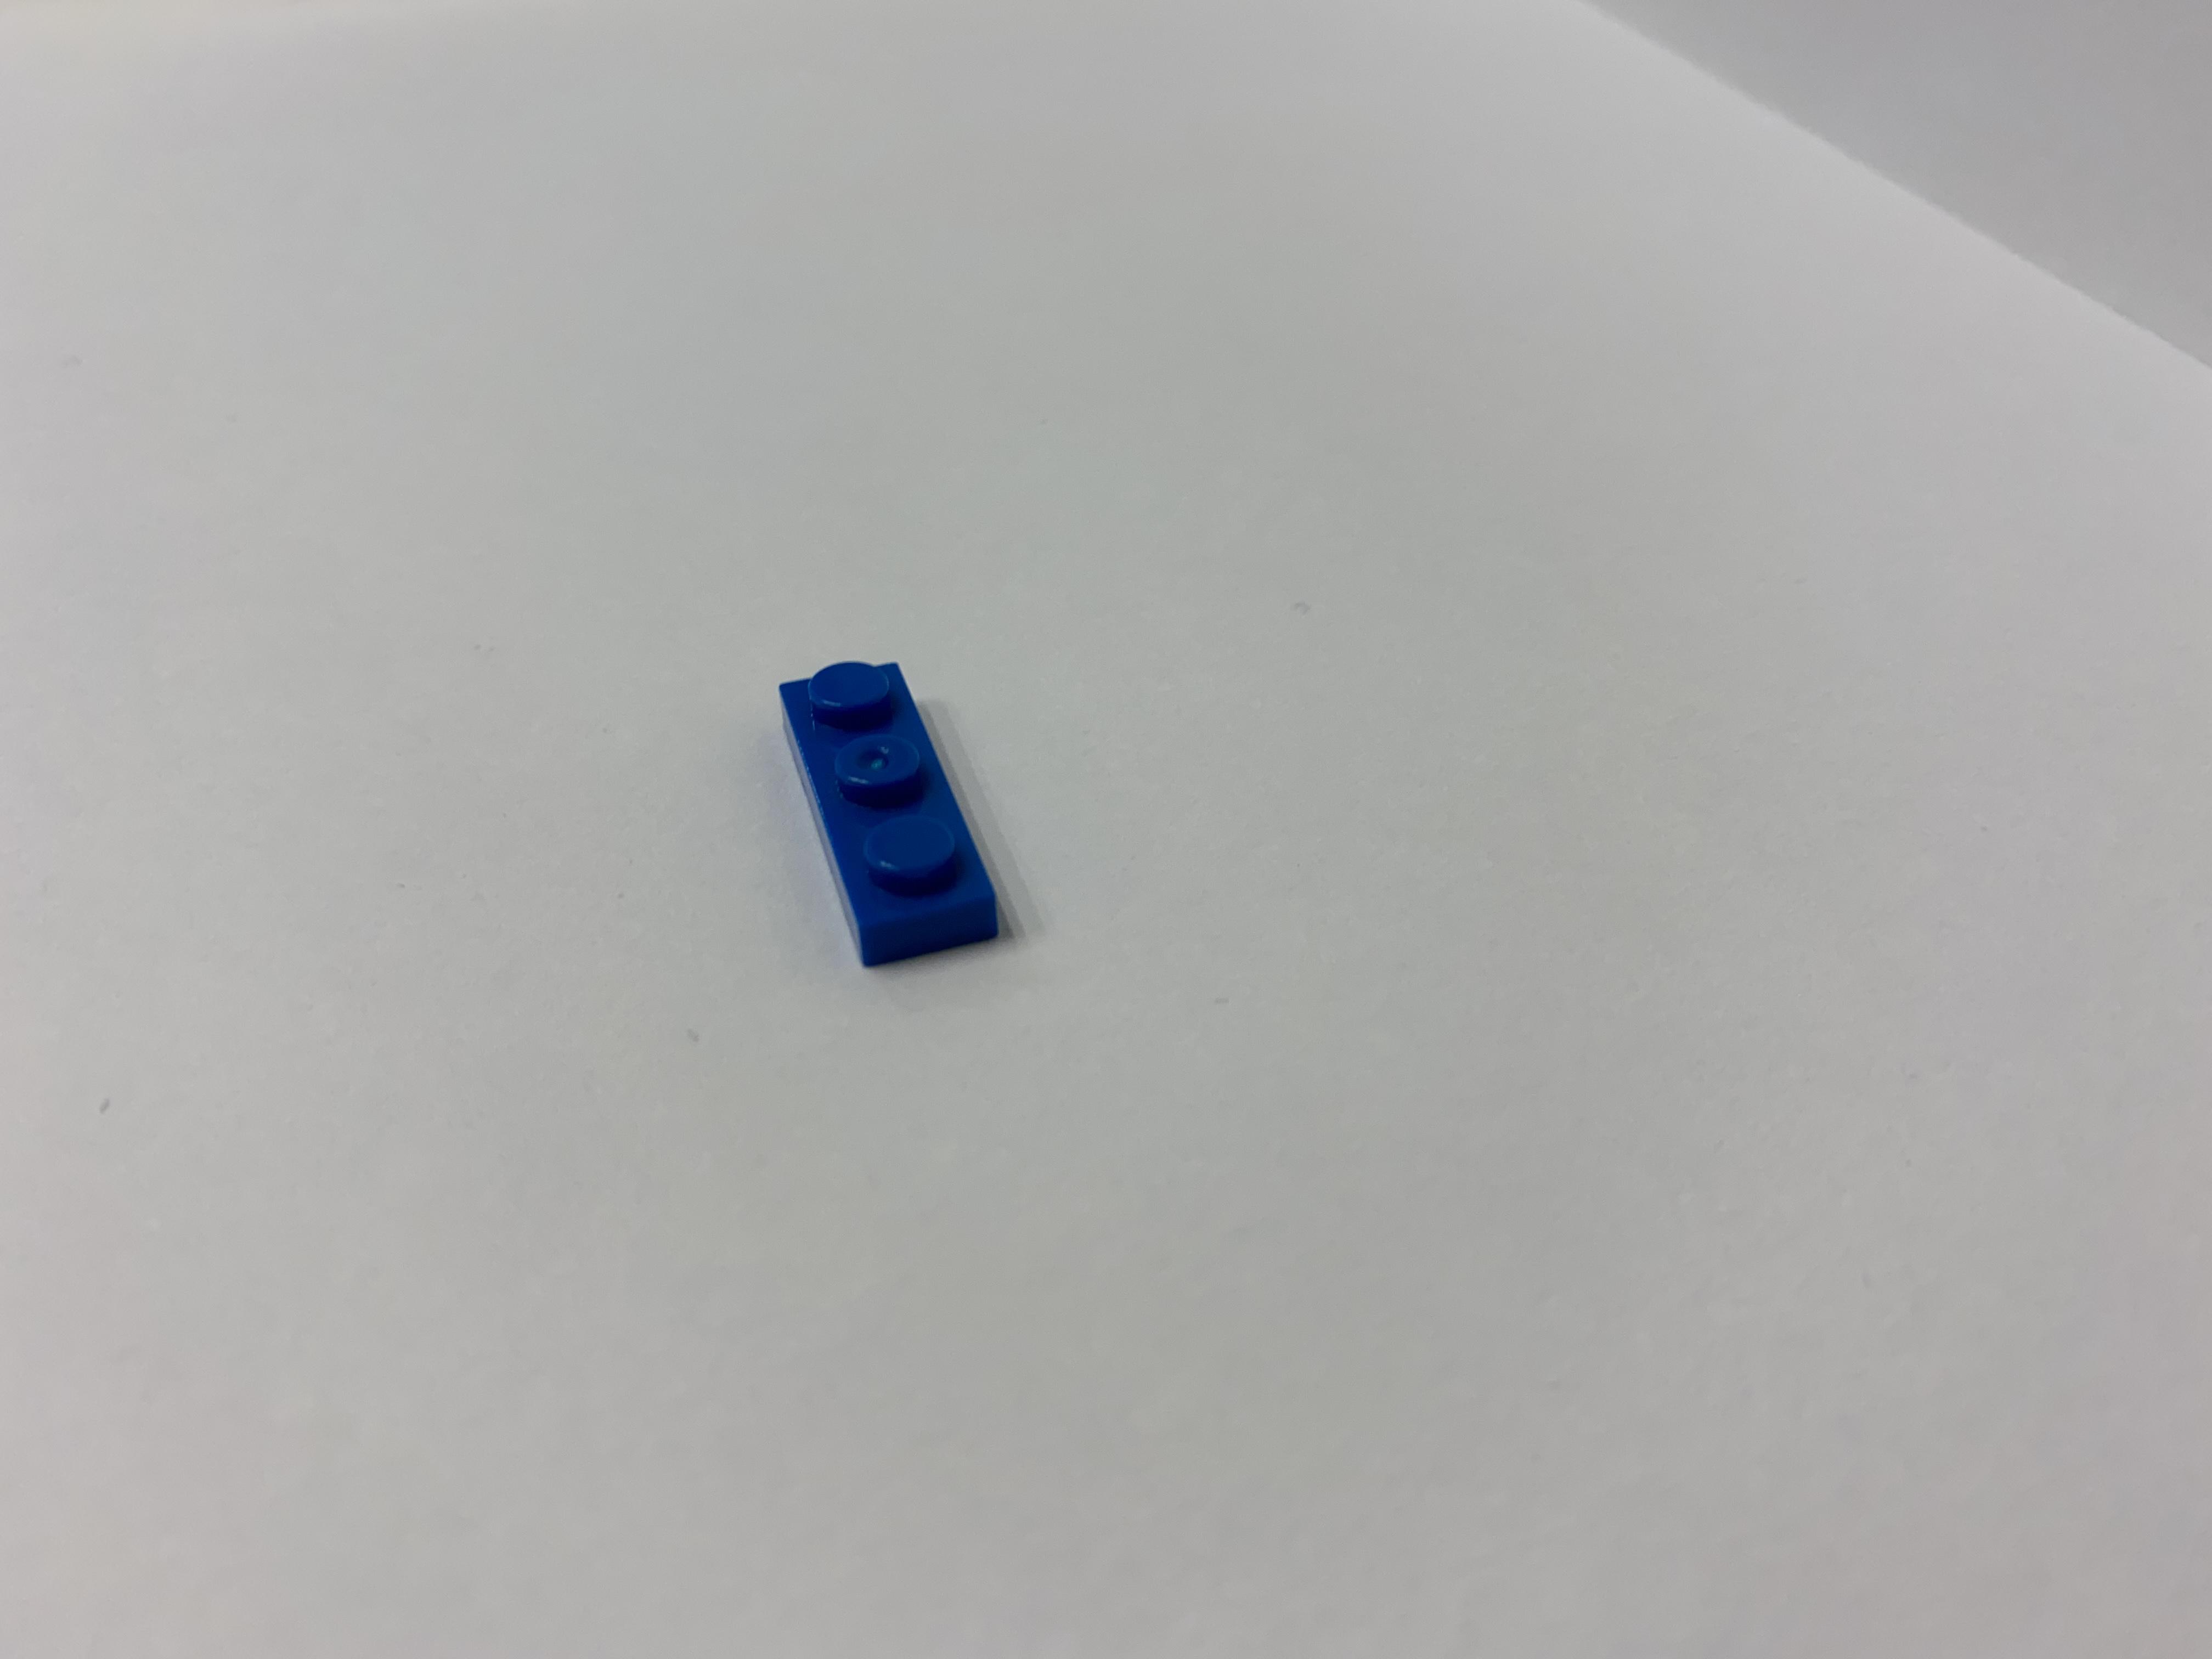car: (751, 640, 1035, 1011)
